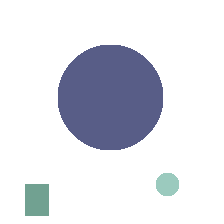circle: (58, 45, 162, 149), (156, 173, 178, 195)
rectangle: (25, 184, 48, 215)
